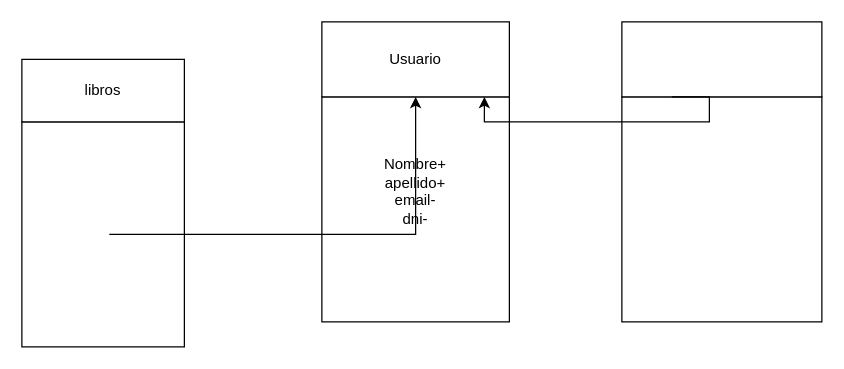
Some shapes in this 844 by 369 pixel diagram are drawn without their labels. Each missing label, with the box of its shape:
+nombre +editorial +precio +fechasalida -codigoreferencia: (21, 121, 184, 347)
prestamo: (621, 21, 822, 97)
